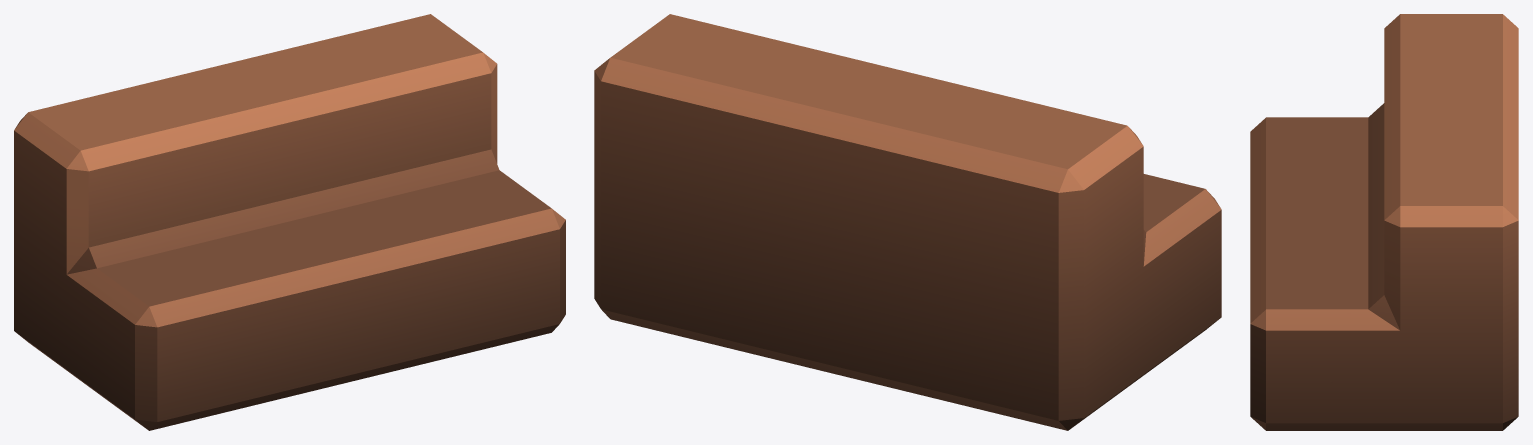
Rendered from Steps.glb.
3 renders of one model, left to right at view 1: azimuth 30°, elevation 25°; view 2: azimuth 150°, elevation 25°; view 3: azimuth 270°, elevation 25°, orthographic. The views are drawn at different scales.
Parts seen in each view (by area): view 1: Steps; view 2: Steps; view 3: Steps.
Part boxes in pixels (left/top/right/bottom): Steps: left=14, top=14, right=565, bottom=430; Steps: left=594, top=14, right=1221, bottom=430; Steps: left=1250, top=14, right=1518, bottom=430.
Size of the model in its own units: 0.9136 by 0.4663 by 0.5047.
1 material, 1 textured.
